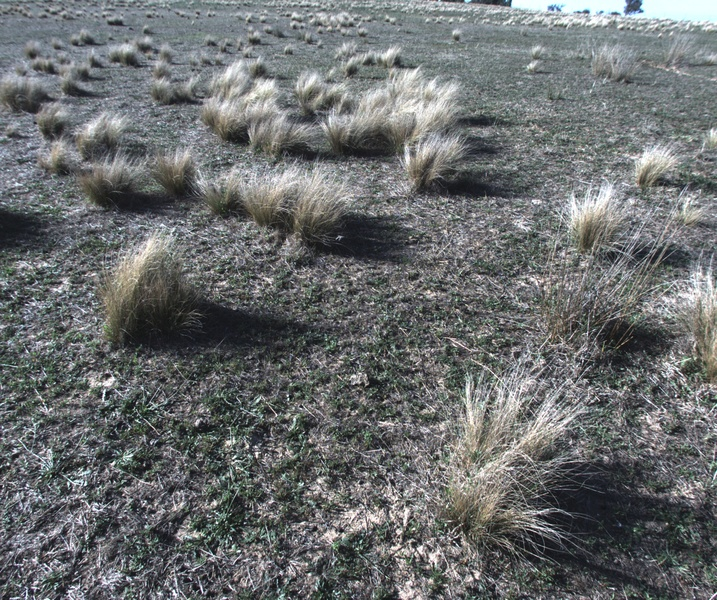st: (426, 376, 597, 536), (101, 235, 189, 349), (688, 257, 717, 365), (382, 69, 423, 138), (563, 198, 615, 252), (152, 147, 197, 206), (403, 140, 455, 190), (295, 183, 339, 241), (629, 137, 675, 191), (81, 109, 126, 159), (243, 174, 287, 224), (323, 116, 366, 167), (408, 108, 457, 151), (84, 165, 132, 207), (249, 117, 295, 159), (581, 43, 623, 81), (222, 62, 262, 101), (199, 176, 238, 215), (204, 101, 247, 133), (356, 93, 387, 136), (5, 78, 42, 111), (298, 78, 332, 112), (341, 58, 369, 91), (38, 146, 68, 175), (684, 191, 706, 227), (39, 111, 67, 135), (155, 62, 179, 85), (378, 51, 405, 70), (154, 78, 170, 106), (132, 34, 153, 53), (527, 40, 545, 62), (701, 126, 717, 149), (37, 59, 58, 75), (108, 44, 124, 64), (11, 65, 30, 81), (68, 62, 85, 79), (59, 76, 75, 94), (279, 43, 297, 59), (63, 31, 79, 47), (87, 51, 100, 70), (197, 51, 216, 64), (31, 54, 43, 73), (25, 44, 39, 59), (246, 31, 260, 45), (126, 48, 136, 67), (529, 60, 540, 77), (158, 41, 172, 54), (200, 37, 216, 48), (240, 45, 253, 58), (84, 29, 94, 44), (364, 53, 374, 64)
